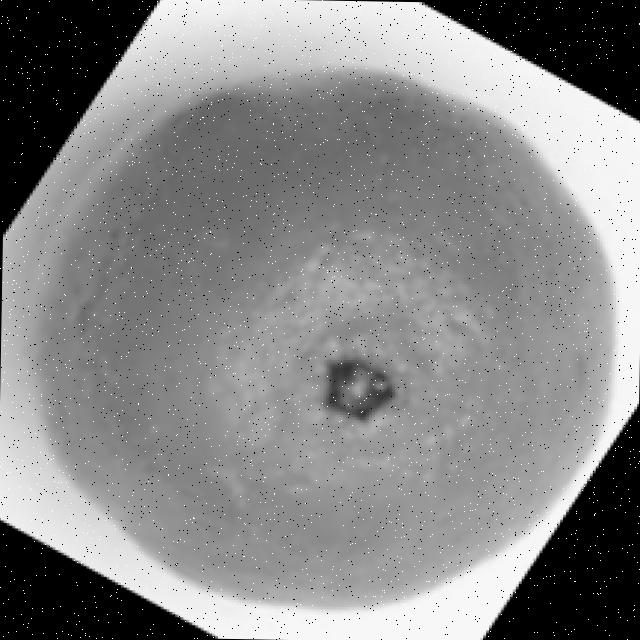orange: (28, 62, 626, 616)
